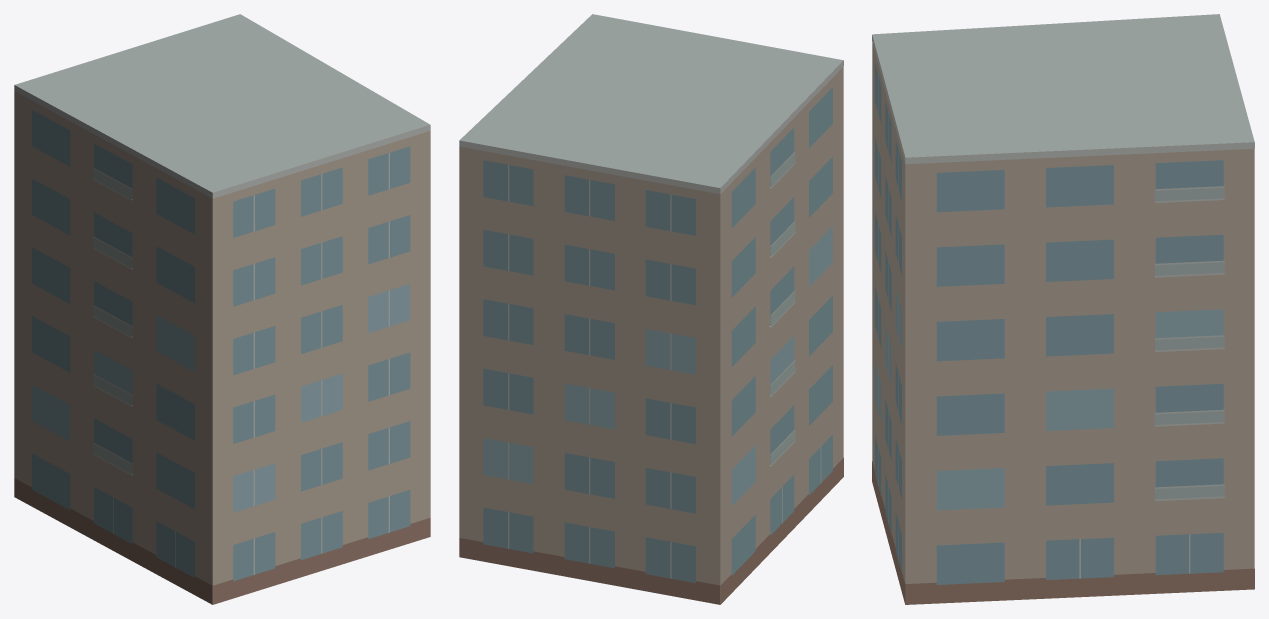
The model's file is survey-upis-32883720.glb.
3 views of the same model, side by side, from view 1: azimuth 30°, elevation 25°; view 2: azimuth 150°, elevation 25°; view 3: azimuth 270°, elevation 25° (orthographic). The views are drawn at different scales.
Parts seen in each view (by area): view 1: survey-upis-32883720.tmp; view 2: survey-upis-32883720.tmp; view 3: survey-upis-32883720.tmp.
Boxes of the visible parts, bbox=[...] form: survey-upis-32883720.tmp: bbox=[14, 14, 430, 604]; survey-upis-32883720.tmp: bbox=[459, 14, 843, 604]; survey-upis-32883720.tmp: bbox=[872, 14, 1254, 604].
Bounding box in the file's own units: 11.52 × 16.7 × 12.96.
